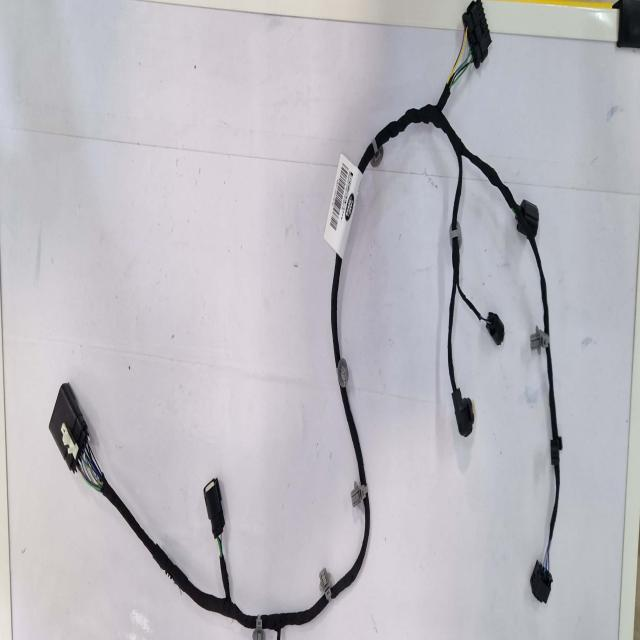Clip: (529, 327, 549, 353), (318, 569, 331, 603), (351, 476, 368, 501), (448, 208, 461, 239), (252, 612, 266, 640), (549, 432, 561, 464), (339, 357, 350, 389), (371, 136, 383, 165)
Connector: (50, 381, 87, 472), (464, 1, 491, 64), (203, 479, 224, 544), (452, 386, 474, 435), (530, 558, 553, 604), (518, 201, 541, 241), (487, 311, 505, 345)
Gape: (434, 22, 469, 95), (72, 424, 105, 486), (470, 284, 489, 320), (214, 521, 226, 555), (544, 532, 556, 564)
Info: (325, 159, 361, 262)
MHEV_N11_Cable: (360, 88, 564, 606), (104, 467, 252, 626), (332, 484, 371, 595), (262, 592, 326, 637), (341, 373, 366, 478), (331, 239, 342, 356)
